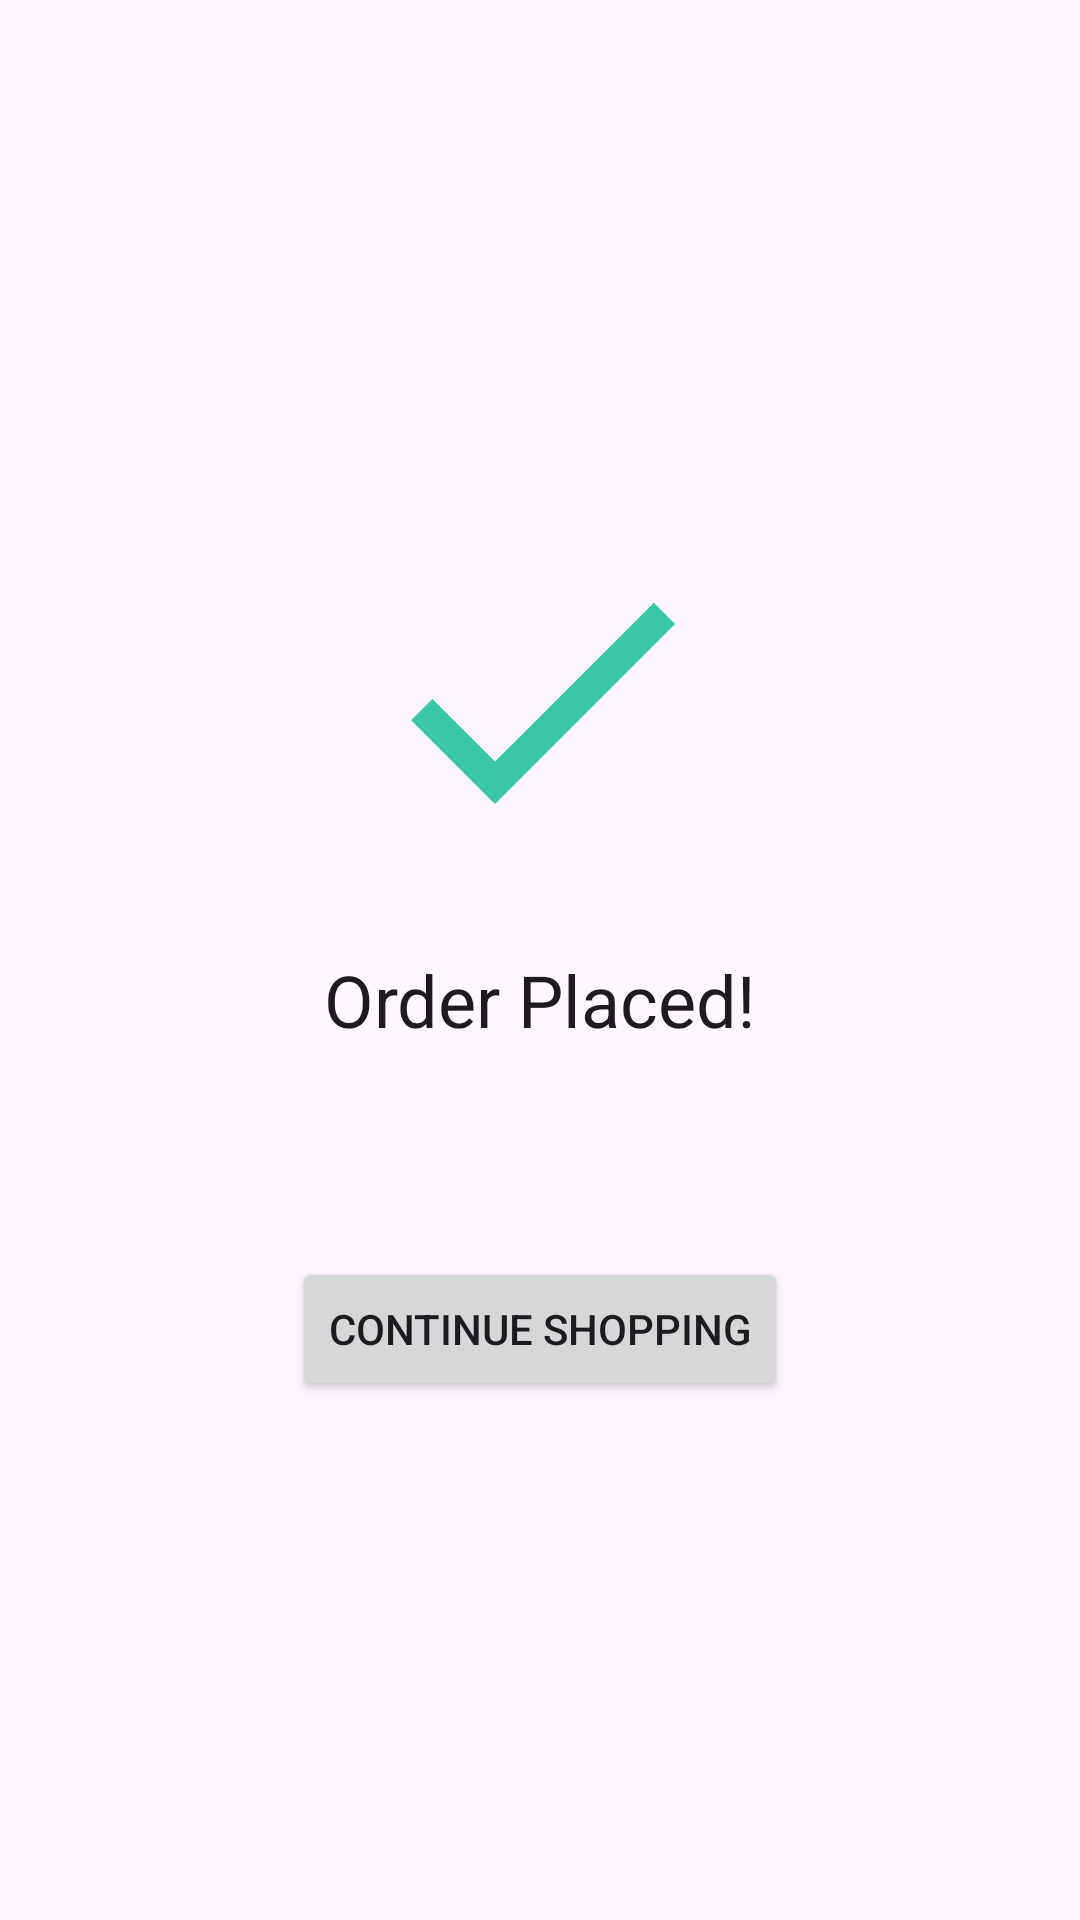

Locate icon controls on the screen. Image size 1080w x 1920h, boxes as (x1, y1, x2, y2).
success checkmark: (411, 603, 675, 804)
